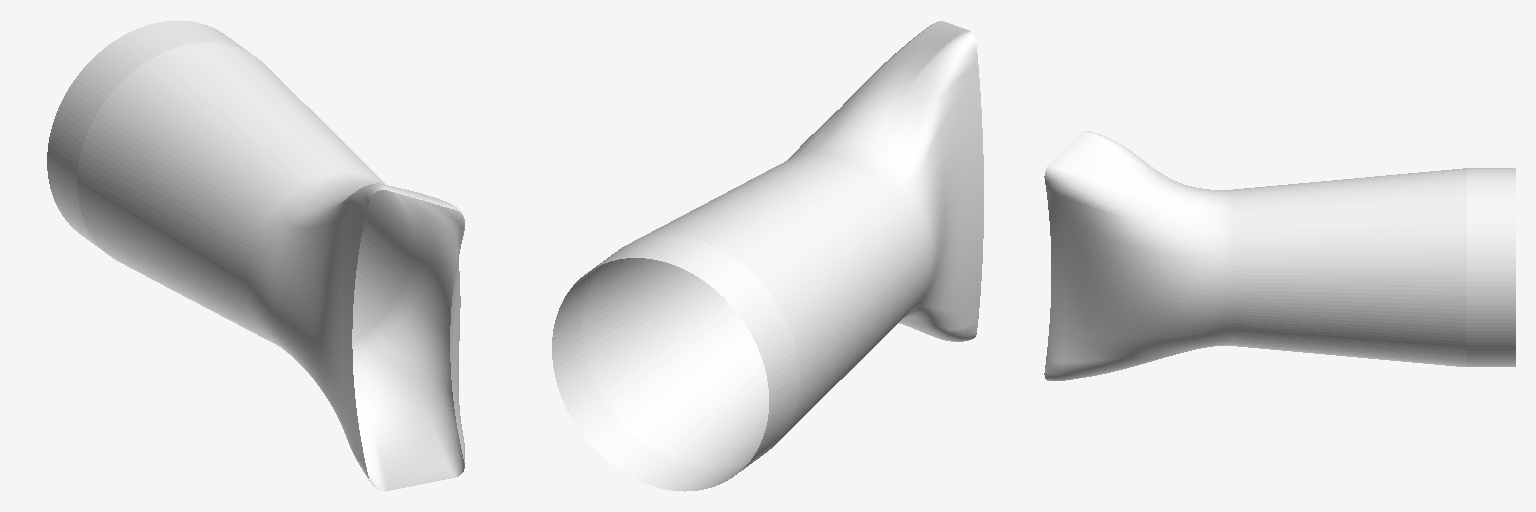
URDF robot description (burnner):
<?xml version="1.0" encoding="utf-8"?>
<!-- This URDF was automatically created by SolidWorks to URDF Exporter! Originally created by Stephen Brawner (brawner@gmail.com) 
     Commit Version: 1.6.0-4-g7f85cfe  Build Version: 1.6.7995.38578
     For more information, please see http://wiki.ros.org/sw_urdf_exporter -->
<robot
  name="burnner">
  <link
    name="base_link">
    <inertial>
      <origin
        xyz="0 0 0"
        rpy="0 0 0" />
      <mass
        value="0" />
      <inertia
        ixx="0"
        ixy="0"
        ixz="0"
        iyy="0"
        iyz="0"
        izz="0" />
    </inertial>
    <visual>
      <origin
        xyz="0 0 0"
        rpy="0 0 0" />
      <geometry>
        <mesh
          filename="package://burnner/meshes/base_link.STL" />
      </geometry>
      <material
        name="">
        <color
          rgba="1 1 1 1" />
      </material>
    </visual>
    <collision>
      <origin
        xyz="0 0 0"
        rpy="0 0 0" />
      <geometry>
        <mesh
          filename="package://burnner/meshes/base_link.STL" />
      </geometry>
    </collision>
  </link>
</robot>

--- Render facts (derived) ---
The picture shows the robot from 3 angles, left to right: view 1: azimuth 30°, elevation 25°; view 2: azimuth 150°, elevation 25°; view 3: azimuth 270°, elevation 25°; orthographic projection.
Model burnner with 1 links and 0 joints (none), rooted at base_link, posed every joint at zero.
Visible links, largest first — view 1: base_link; view 2: base_link; view 3: base_link.
Link boxes in pixels (bbox=[...]): base_link: bbox=[47, 20, 464, 491]; base_link: bbox=[552, 21, 983, 491]; base_link: bbox=[1044, 131, 1515, 380].
Size in the robot's own frame: 0.476 by 1.12 by 0.6418 metres.
Meshes: 1 distinct files referenced, 1 mesh visuals loaded (1 binary STL).
